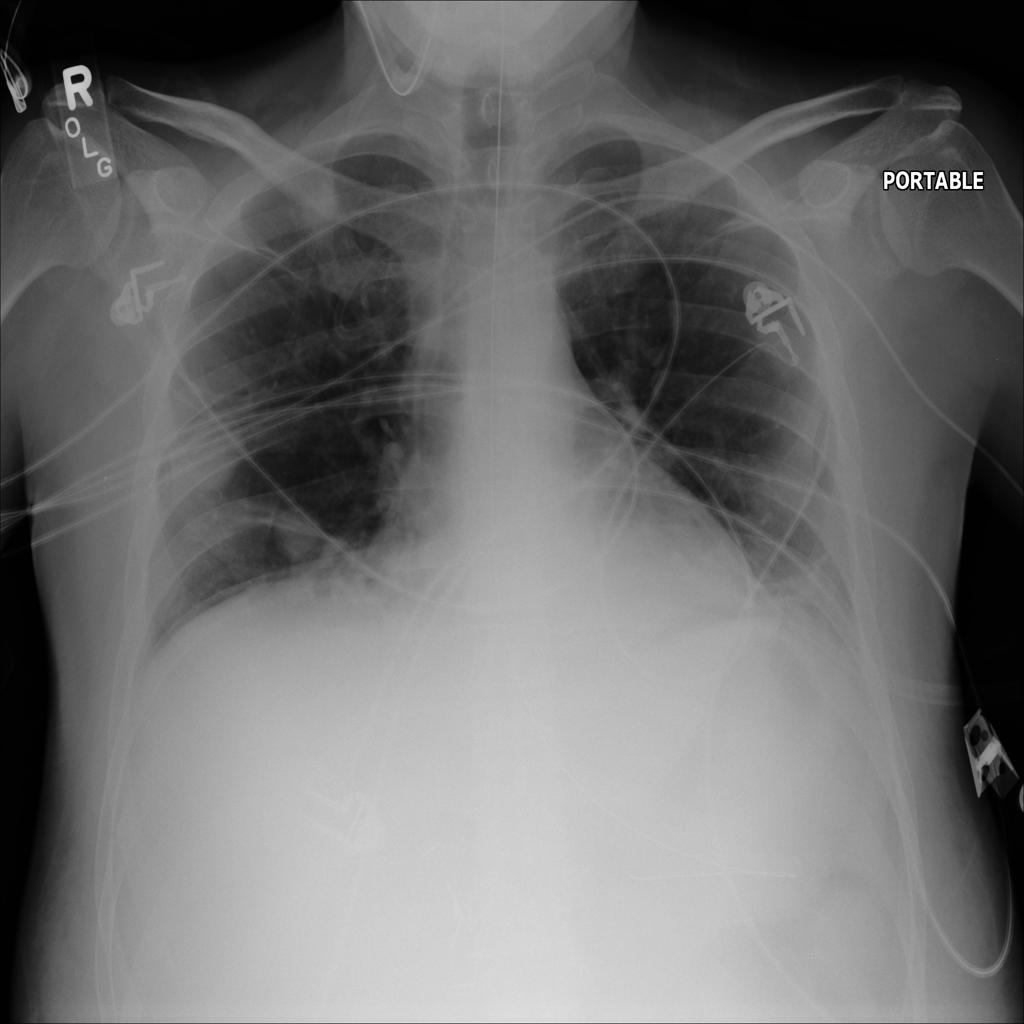nodule: (262, 492, 338, 567)
